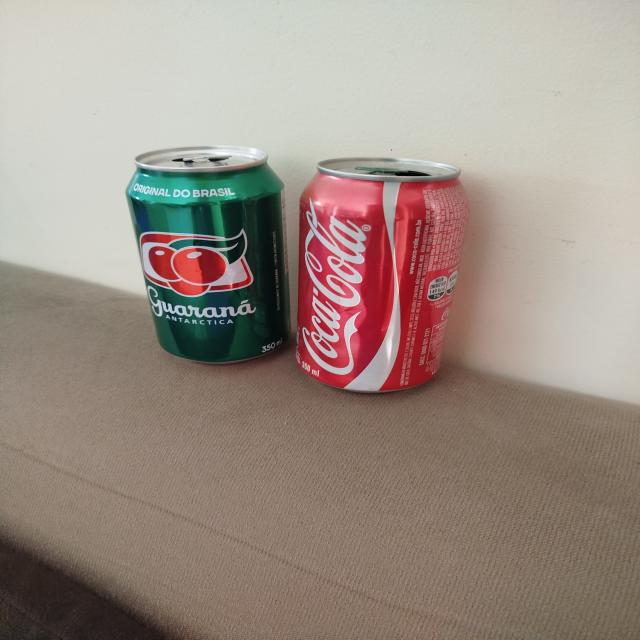Coca Cola: (295, 157, 467, 392)
Guarana: (124, 147, 290, 366)
